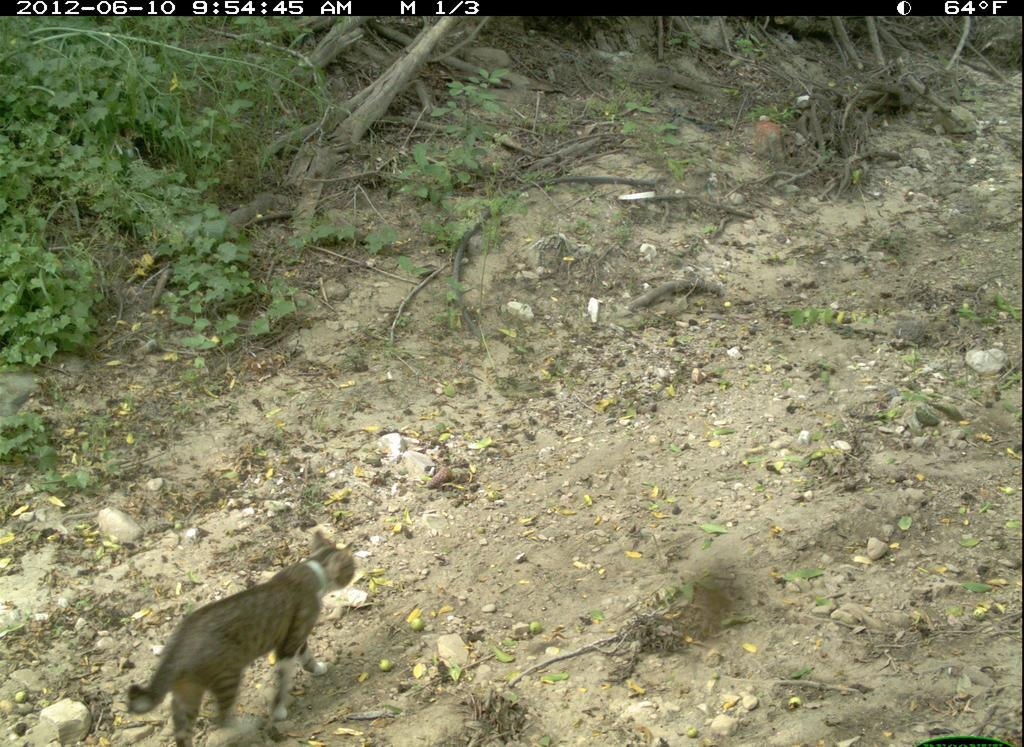cat: (116, 522, 364, 747)
